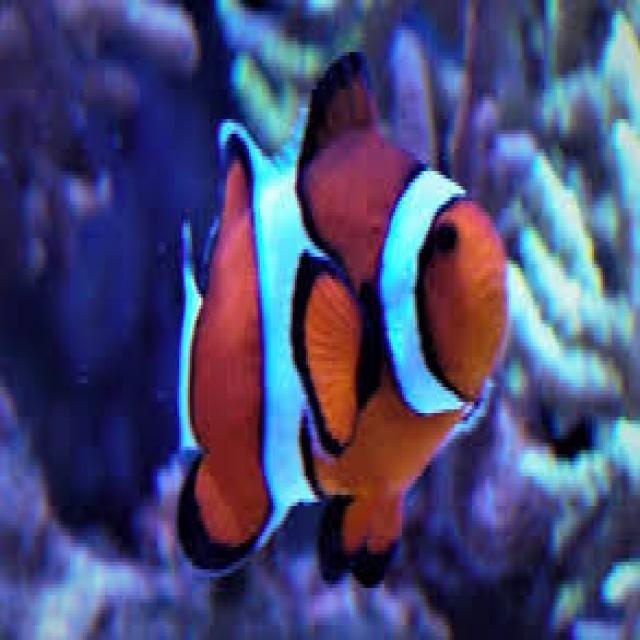ClownFish: (164, 49, 512, 580)
